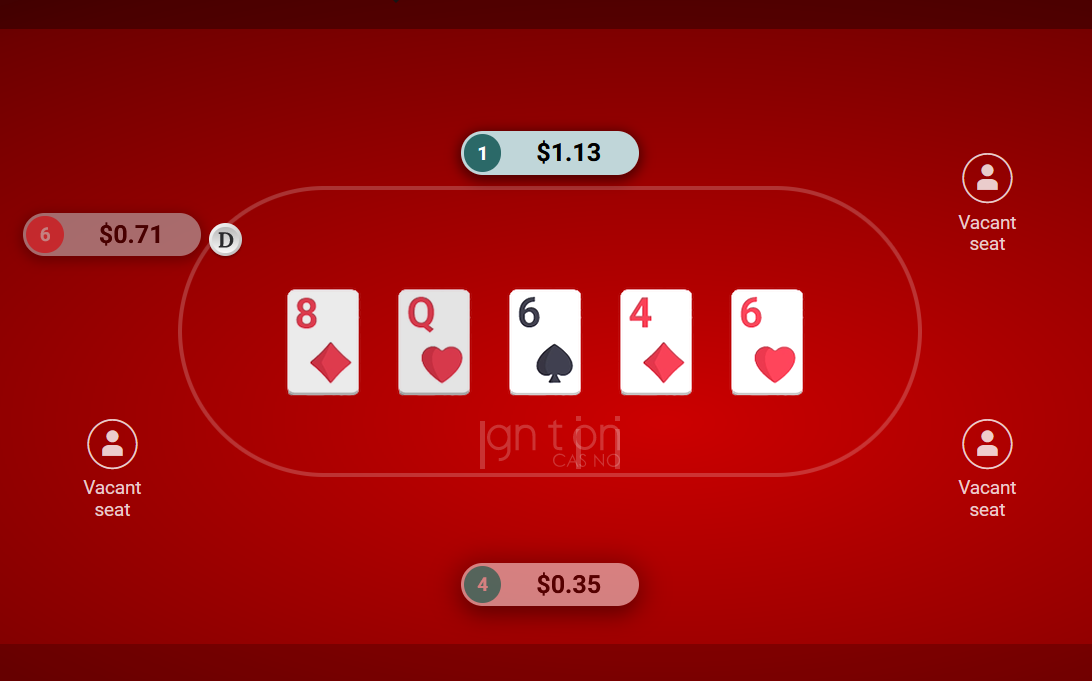4D: (616, 285, 697, 396)
6H: (727, 285, 808, 396)
6S: (505, 285, 586, 396)
8D: (283, 285, 364, 396)
QH: (394, 285, 475, 396)
